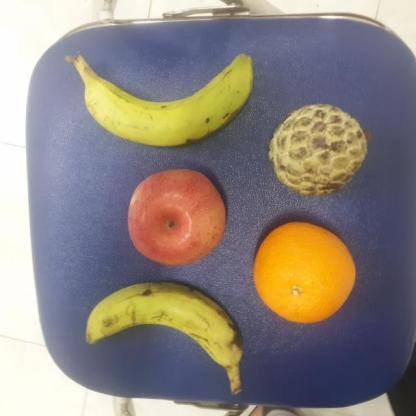annona: (267, 99, 371, 199)
apple: (126, 167, 227, 269)
banana: (76, 57, 253, 150), (83, 279, 244, 370)
orange: (250, 218, 356, 323)
